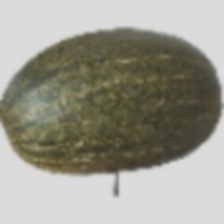honeydew: (14, 17, 206, 170)
